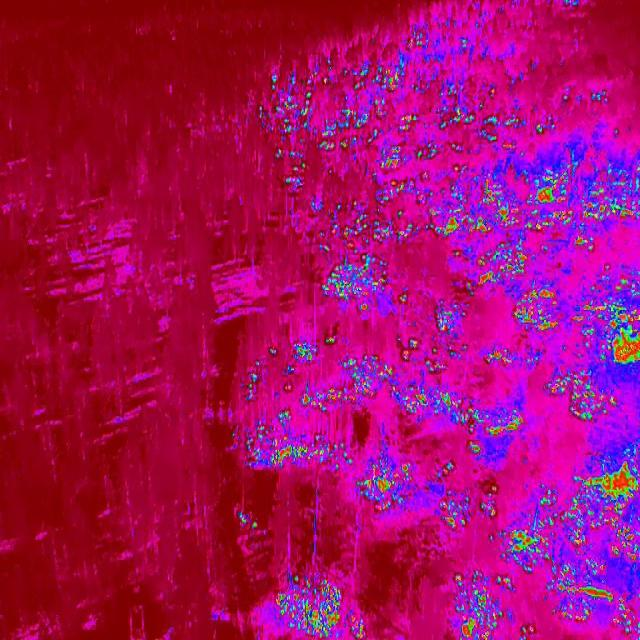fire: (254, 30, 522, 200), (245, 323, 536, 438), (506, 456, 640, 634), (503, 158, 639, 254), (309, 206, 423, 303), (227, 409, 356, 476), (430, 439, 502, 539), (573, 274, 640, 371), (272, 571, 366, 640), (426, 180, 520, 248), (452, 570, 522, 638), (540, 368, 620, 424), (352, 452, 419, 518), (464, 240, 532, 290), (511, 282, 567, 337), (232, 506, 260, 533), (530, 118, 550, 140)
